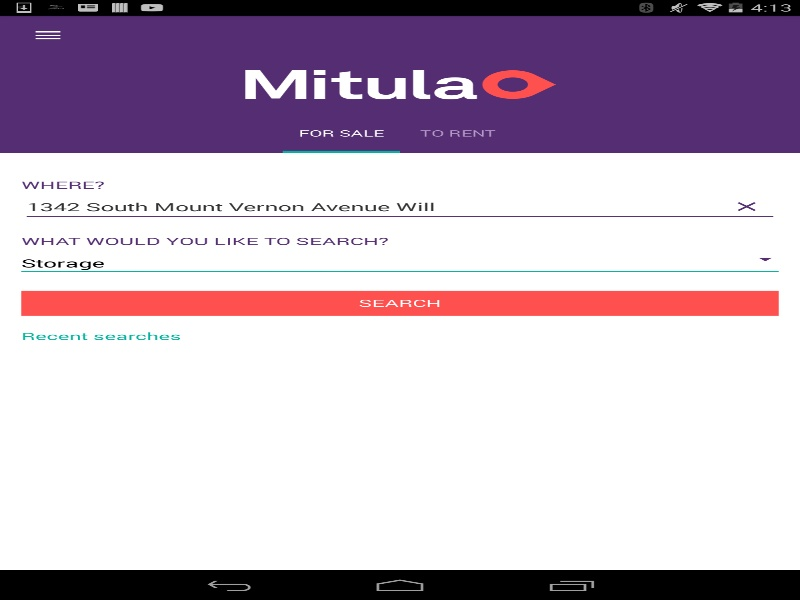Button: (21, 290, 778, 315), (10, 15, 85, 55)
Input: (21, 191, 778, 221)
